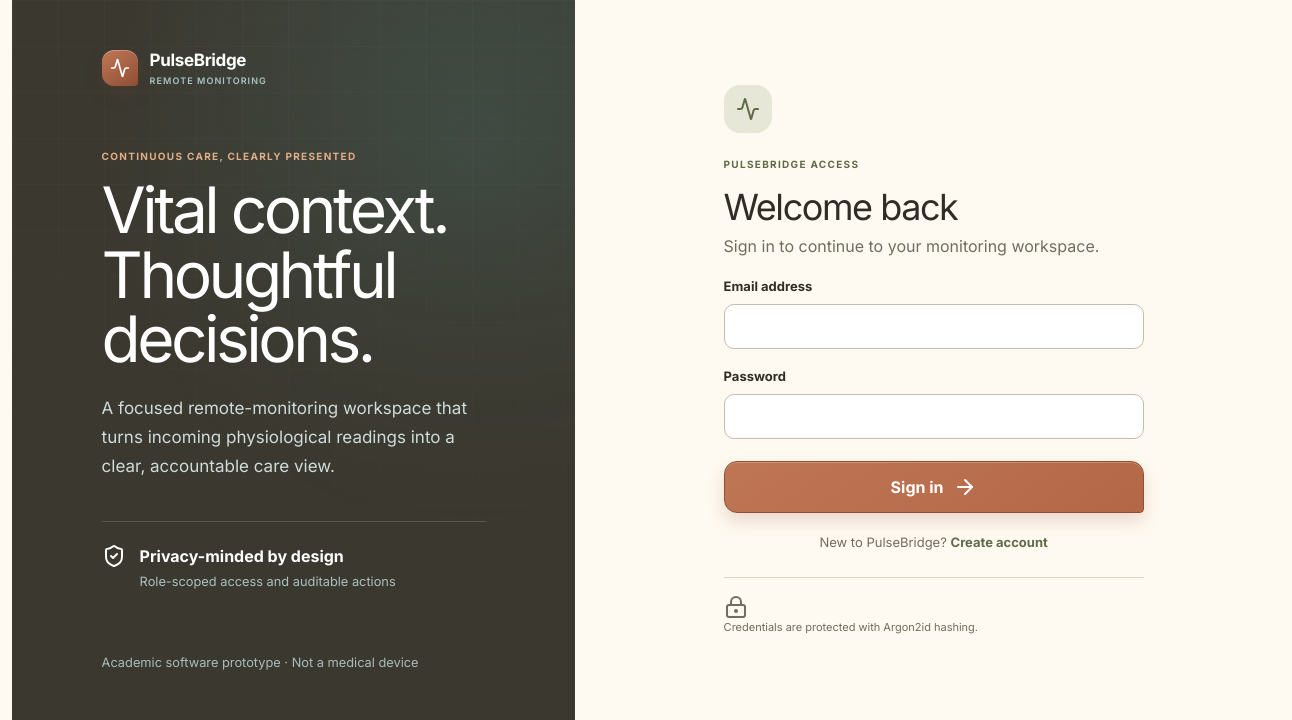
Scenario: authentication navigation › keeps a failed login on the login page and displays the API error
The width and height of the screenshot is (1292, 720).
Type "patient@example.com" into the field labelled "Email address" at (934, 327), box 724,304 -> 1144,349
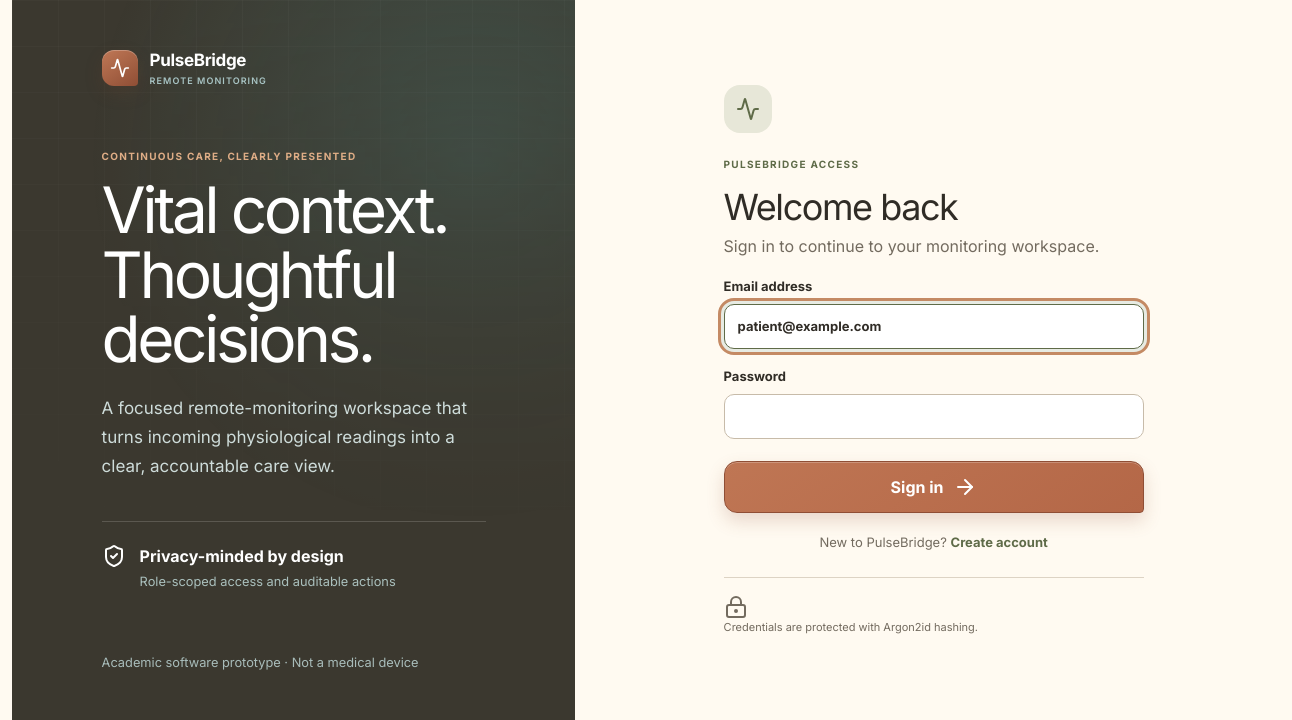
Type "incorrect-password" into the password field labelled "Password" at (934, 417), box 724,394 -> 1144,439
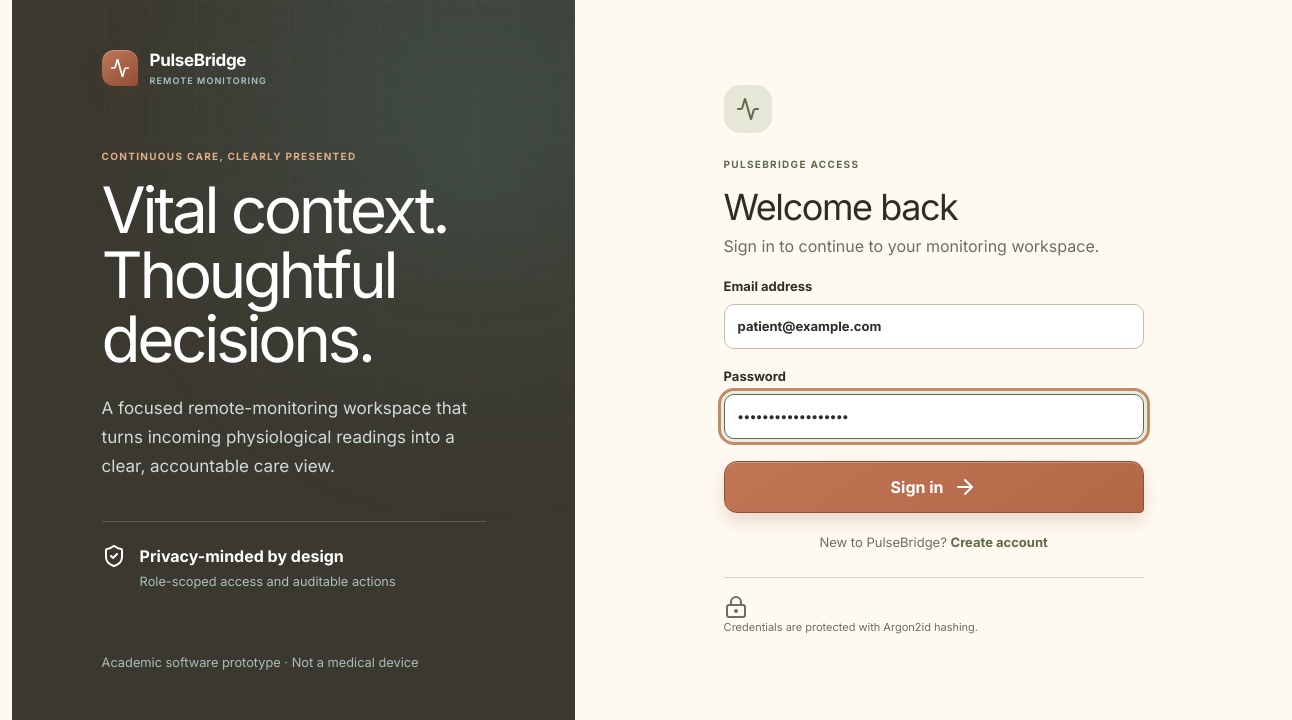
Click the button "Sign in" at (934, 487), box 724,461 -> 1144,513
(page scrolled)
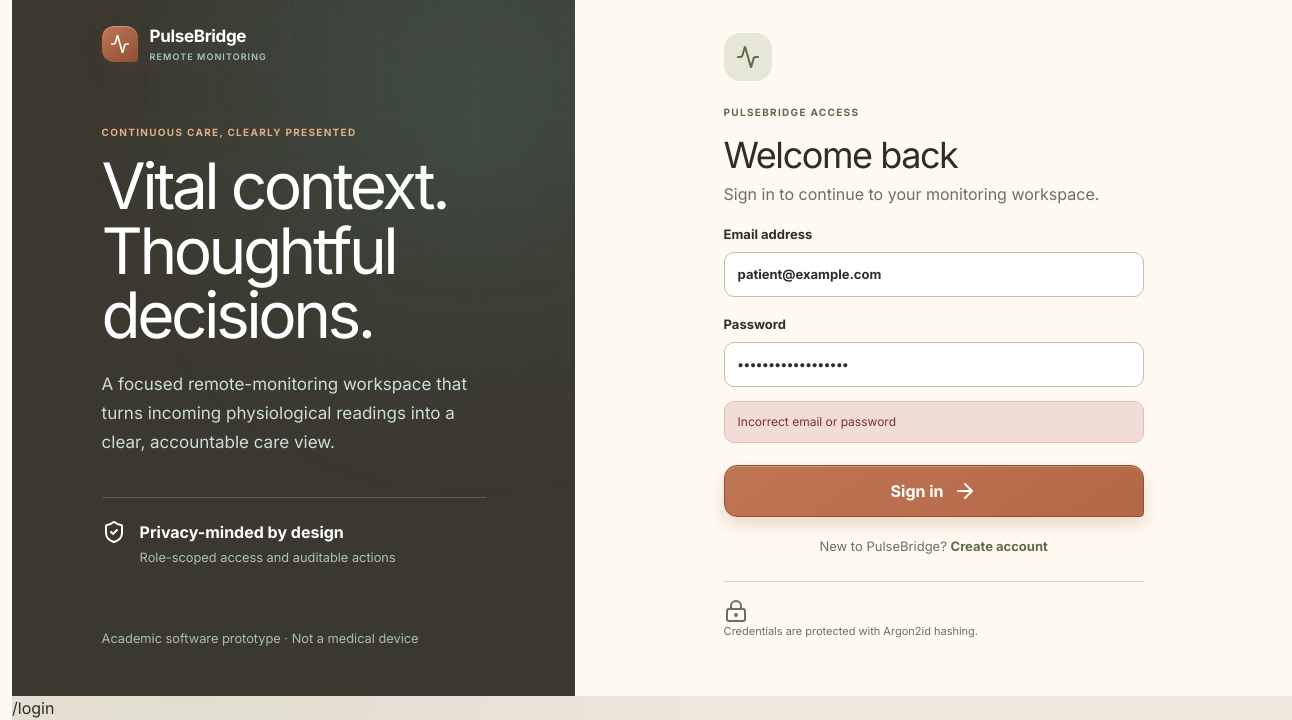
Expected: the text named "current path" reads "/login", 12,698 -> 54,718
Expected: the message reads "Incorrect email or password", 738,414 -> 896,429
